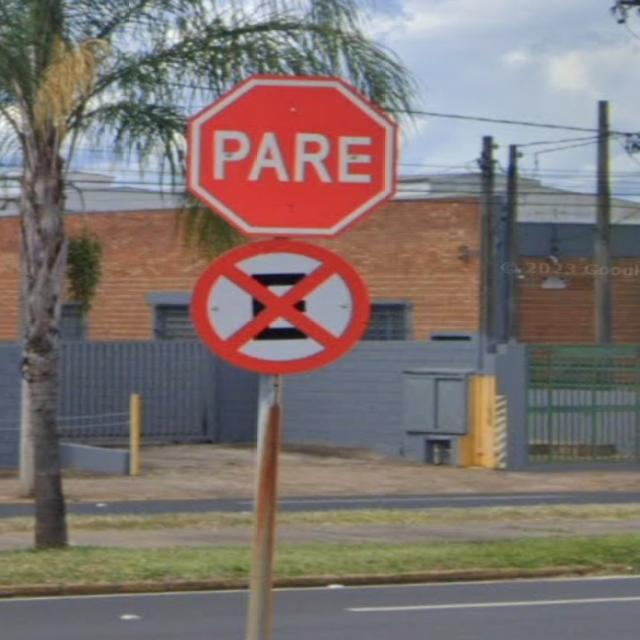no parking: (164, 240, 410, 390)
stop: (148, 51, 422, 238)
